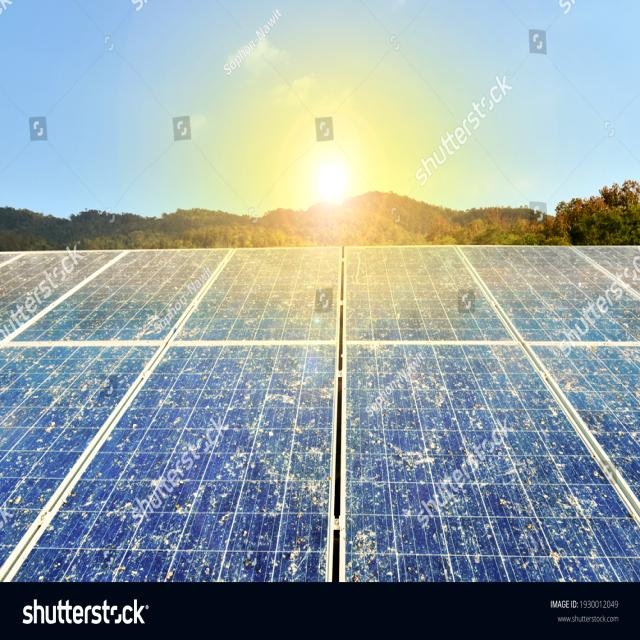bird: (410, 424, 466, 500), (498, 434, 535, 540), (67, 360, 124, 410), (349, 526, 392, 581), (302, 445, 336, 507), (130, 296, 173, 344), (272, 532, 314, 581), (267, 390, 299, 428), (170, 482, 194, 532), (567, 480, 590, 520), (5, 480, 32, 514), (536, 544, 574, 568), (76, 481, 95, 529), (214, 496, 239, 528)
